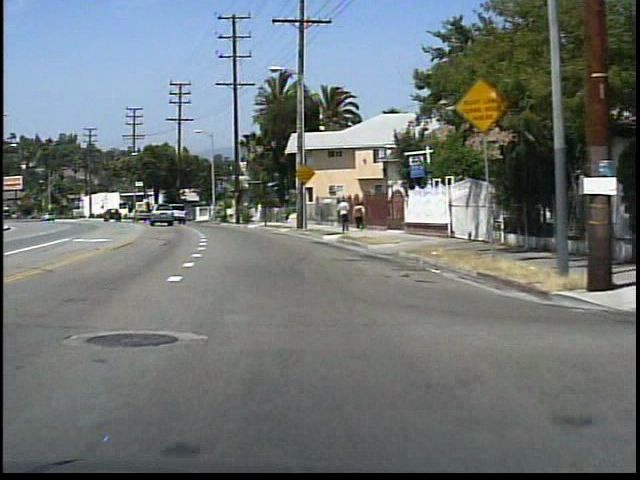person: (336, 196, 353, 236), (351, 201, 367, 233)
